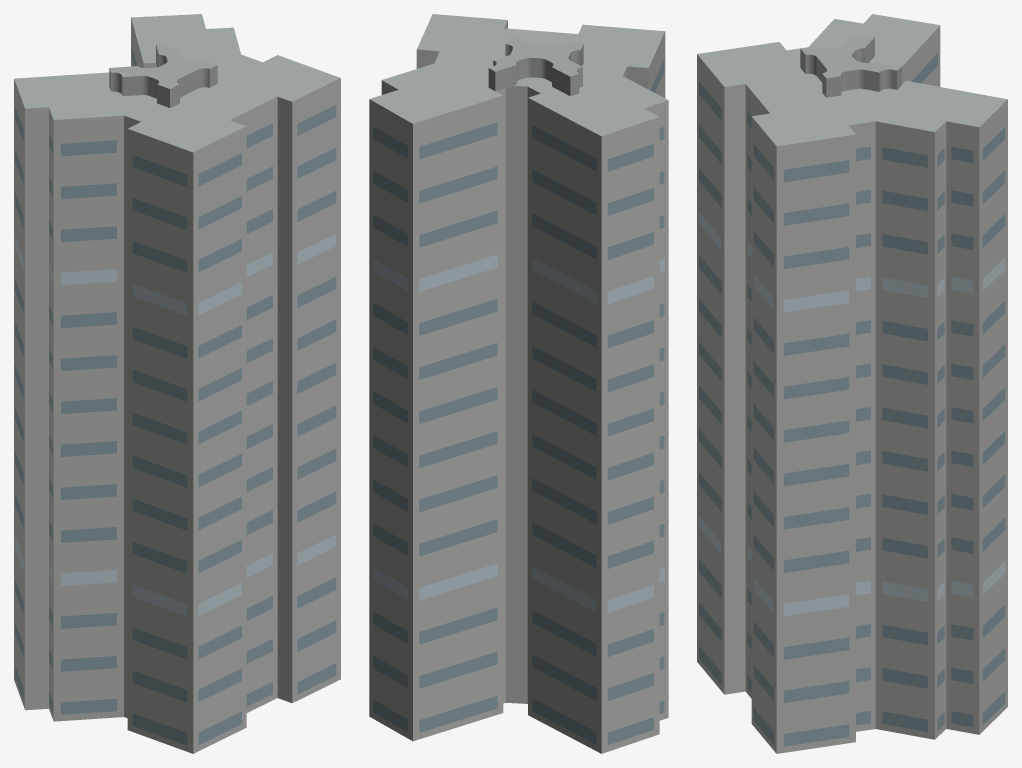
The model's file is fallback-banpo-xi-138.glb.
3 renders of one model, left to right at view 1: azimuth 30°, elevation 25°; view 2: azimuth 150°, elevation 25°; view 3: azimuth 270°, elevation 25°, orthographic. The views are drawn at different scales.
Parts seen in each view (by area): view 1: fallback-banpo-xi-138; view 2: fallback-banpo-xi-138; view 3: fallback-banpo-xi-138.
Boxes of the visible parts, x1,y1,x2,y2 form: fallback-banpo-xi-138: [14, 14, 340, 753]; fallback-banpo-xi-138: [369, 14, 668, 753]; fallback-banpo-xi-138: [697, 14, 1007, 753].
Bounding box in the file's own units: 35.31 × 78 × 35.06.
